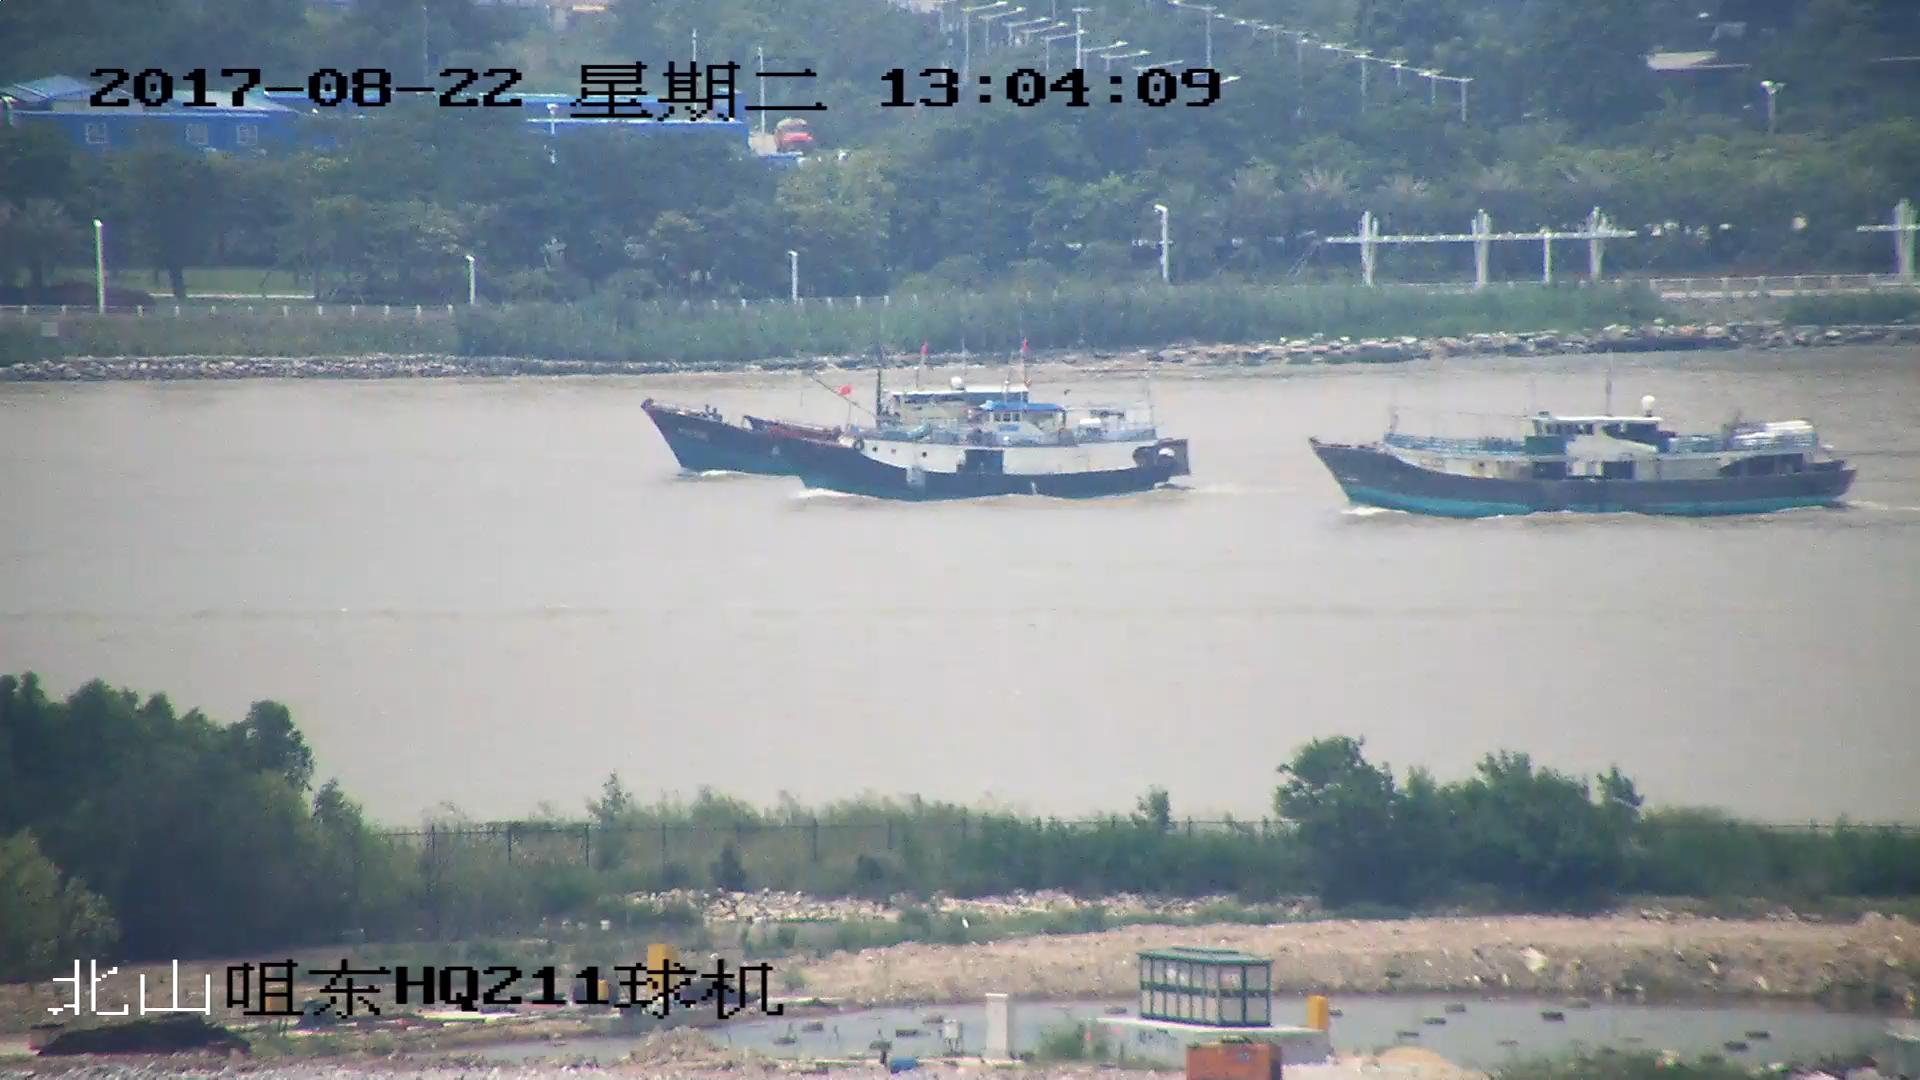fishing boat: (1310, 397, 1855, 524), (767, 388, 1189, 501), (646, 378, 1076, 478)
